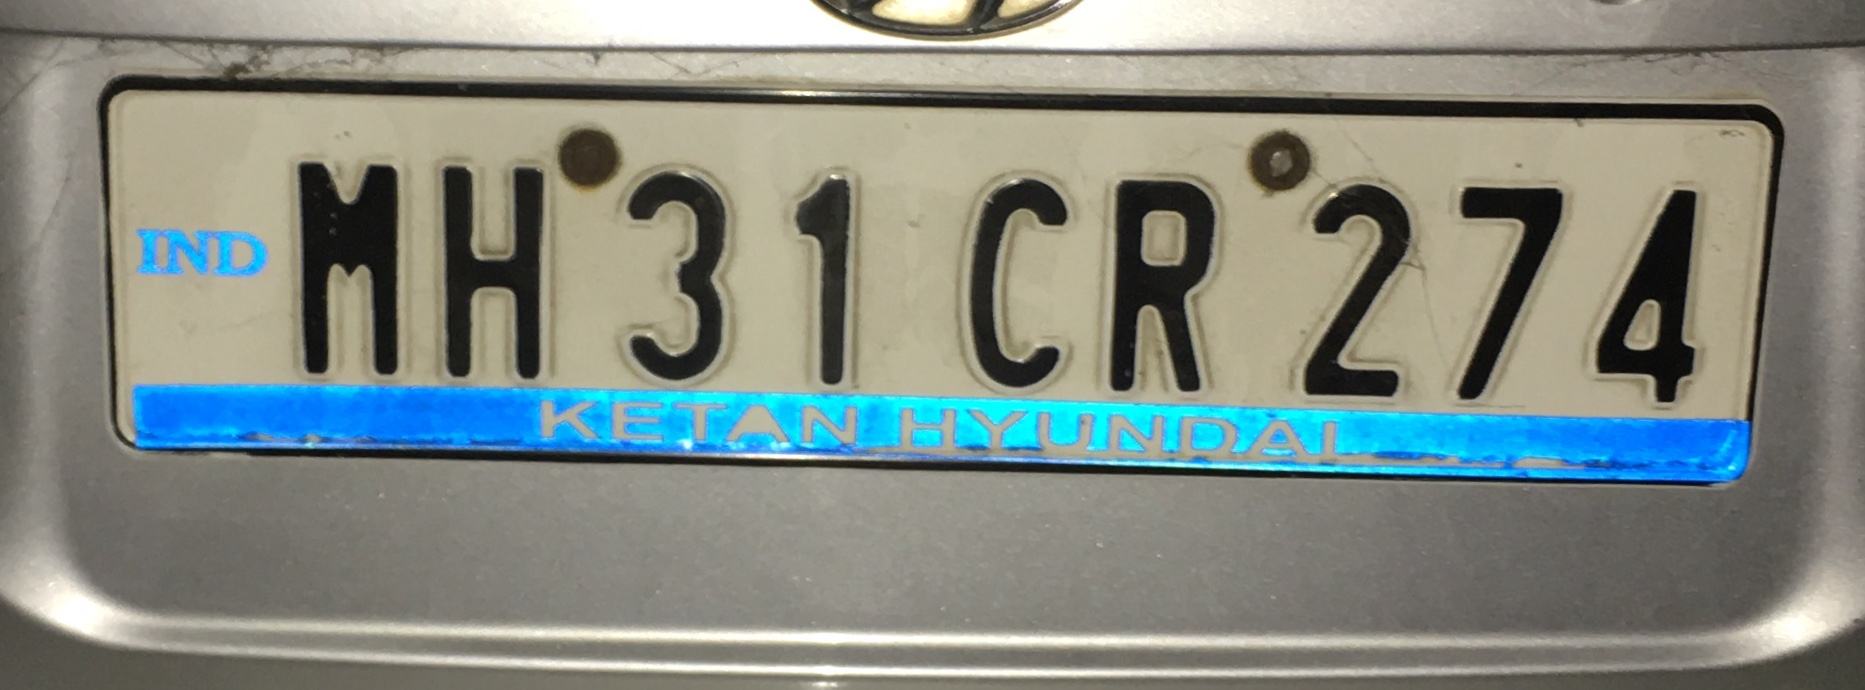numberplate: (95, 73, 1785, 489)
